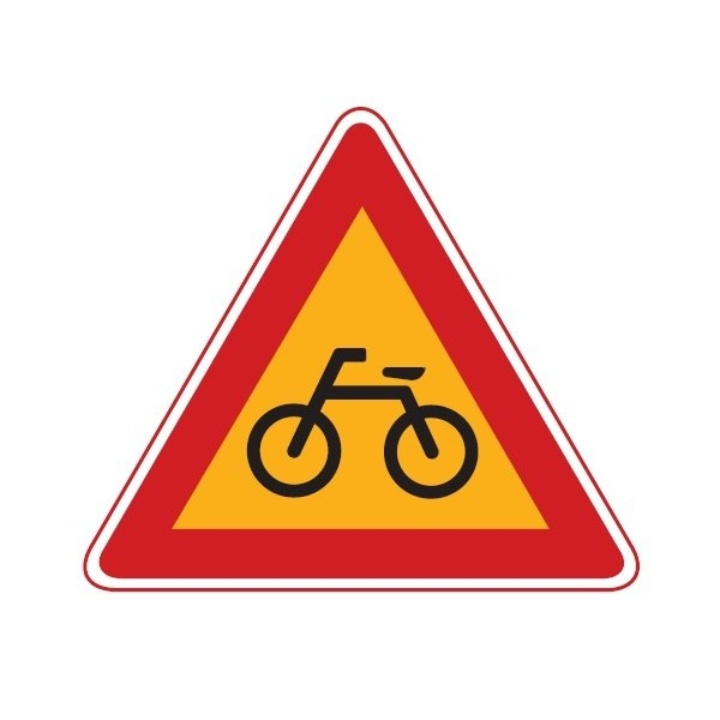bicycle: (97, 114, 619, 581)
